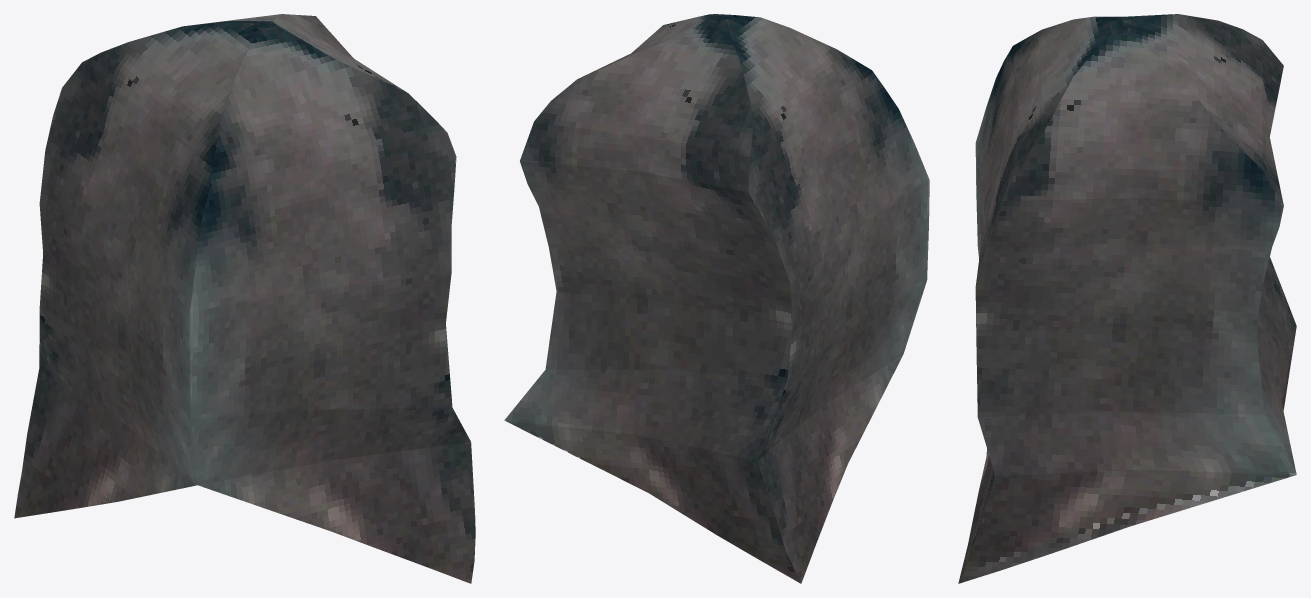
3 renders of one model, left to right at view 1: azimuth 30°, elevation 25°; view 2: azimuth 150°, elevation 25°; view 3: azimuth 270°, elevation 25°, orthographic. The views are drawn at different scales.
Parts seen in each view (by area): view 1: SPLICE_1; view 2: SPLICE_1; view 3: SPLICE_1.
Boxes of the visible parts, x1,y1,x2,y2 form: SPLICE_1: (14, 14, 475, 583); SPLICE_1: (504, 14, 929, 583); SPLICE_1: (958, 14, 1296, 583).
Size of the model in its own units: 0.8414 by 1.37 by 0.8374.
Materials: 1 (1 with a texture image).
